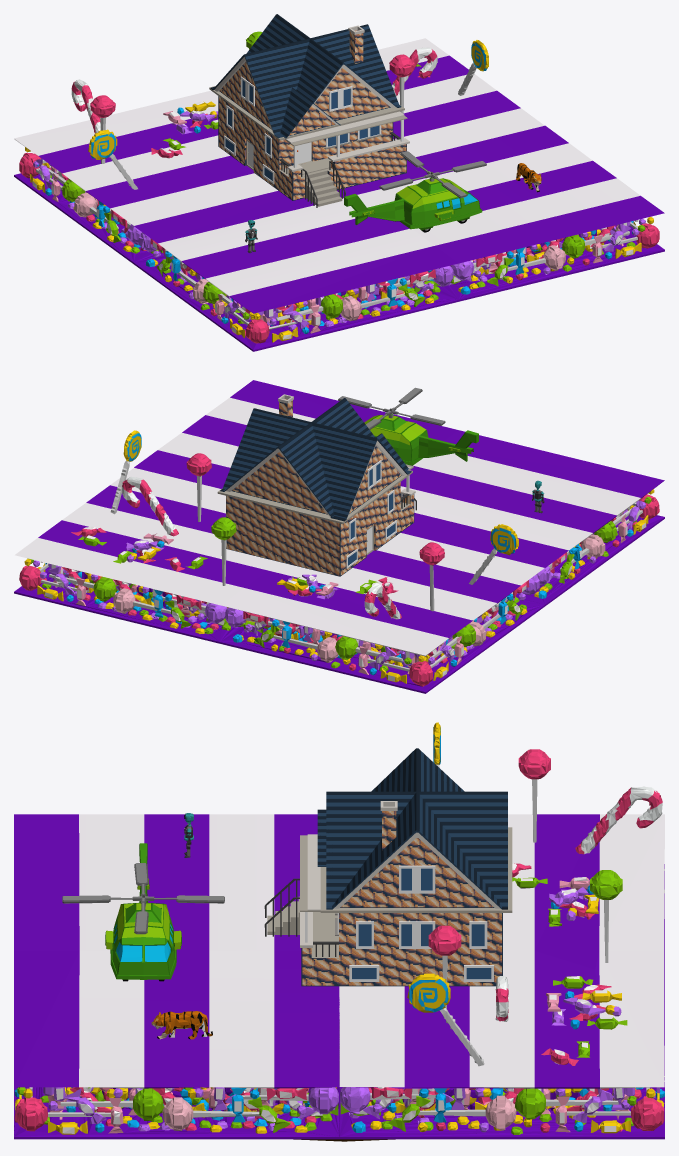
The picture shows the model from 3 angles, top to bottom: view 1: azimuth 30°, elevation 25°; view 2: azimuth 150°, elevation 25°; view 3: azimuth 270°, elevation 25°; orthographic projection. The views are drawn at different scales.
Parts seen in each view (by area): view 1: TERRAIN_CANDY, Cube.430, VEHICLES_HELICOPTER; view 2: TERRAIN_CANDY, Cube.430, VEHICLES_HELICOPTER; view 3: TERRAIN_CANDY, Cube.430, VEHICLES_HELICOPTER, ANIMAL_TIGRE.
Boxes of the visible parts, <box> form: TERRAIN_CANDY: <box>14,31,664,351</box>; Cube.430: <box>209,14,409,207</box>; VEHICLES_HELICOPTER: <box>344,151,486,232</box>; TERRAIN_CANDY: <box>14,380,664,693</box>; Cube.430: <box>217,394,416,576</box>; VEHICLES_HELICOPTER: <box>338,387,478,465</box>; TERRAIN_CANDY: <box>14,722,664,1139</box>; Cube.430: <box>264,748,512,986</box>; VEHICLES_HELICOPTER: <box>62,843,224,981</box>; ANIMAL_TIGRE: <box>151,1011,212,1039</box>.
Bounding box in the file's own units: 4059 × 1650 × 4000.
Materials: 35 (3 with a texture image).
